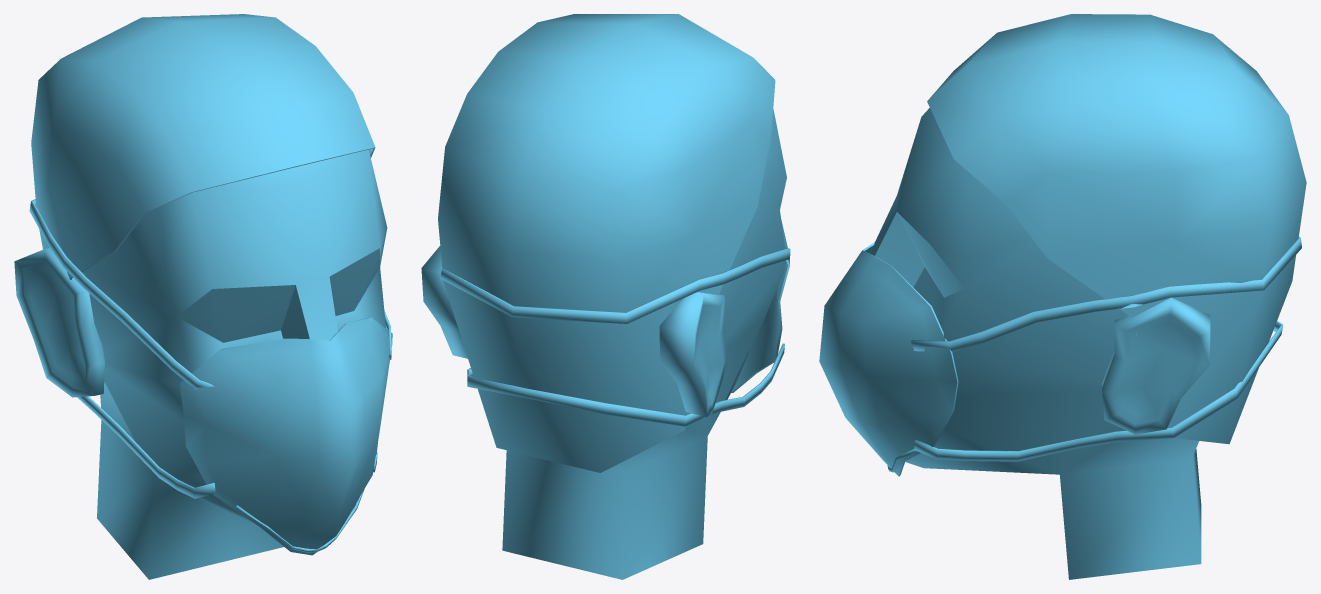
File: headMaskMale_UpsideDown.FBX
3 views of the same model, side by side, from view 1: azimuth 30°, elevation 25°; view 2: azimuth 150°, elevation 25°; view 3: azimuth 270°, elevation 25° (orthographic). The views are drawn at different scales.
Visible parts, largest first — view 1: head, hair2, maskN95_onHeadUpsideDownMale, ear; view 2: hair2, head, maskN95_onHeadUpsideDownMale, ear; view 3: hair2, head, maskN95_onHeadUpsideDownMale, ear.
Part boxes in pixels (x1=…): head: x1=82, y1=149, x2=387, y2=579; hair2: x1=31, y1=14, x2=375, y2=296; maskN95_onHeadUpsideDownMale: x1=29, y1=199, x2=392, y2=555; ear: x1=14, y1=248, x2=104, y2=397; hair2: x1=438, y1=14, x2=775, y2=472; head: x1=502, y1=109, x2=786, y2=579; maskN95_onHeadUpsideDownMale: x1=440, y1=220, x2=790, y2=426; ear: x1=421, y1=246, x2=726, y2=416; hair2: x1=927, y1=14, x2=1306, y2=444; head: x1=870, y1=108, x2=1201, y2=579; maskN95_onHeadUpsideDownMale: x1=819, y1=236, x2=1301, y2=476; ear: x1=1102, y1=297, x2=1210, y2=434.
Size of the model in its own units: 14.19 by 24.71 by 21.8.
